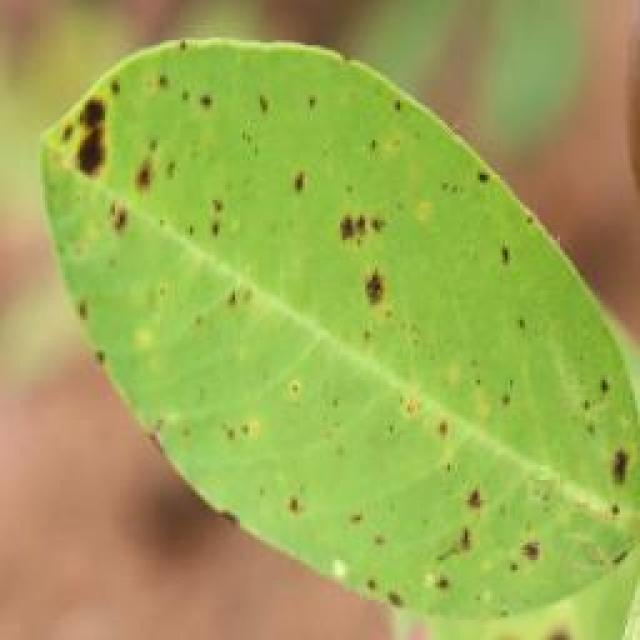Yellowish: (23, 70, 636, 598)
